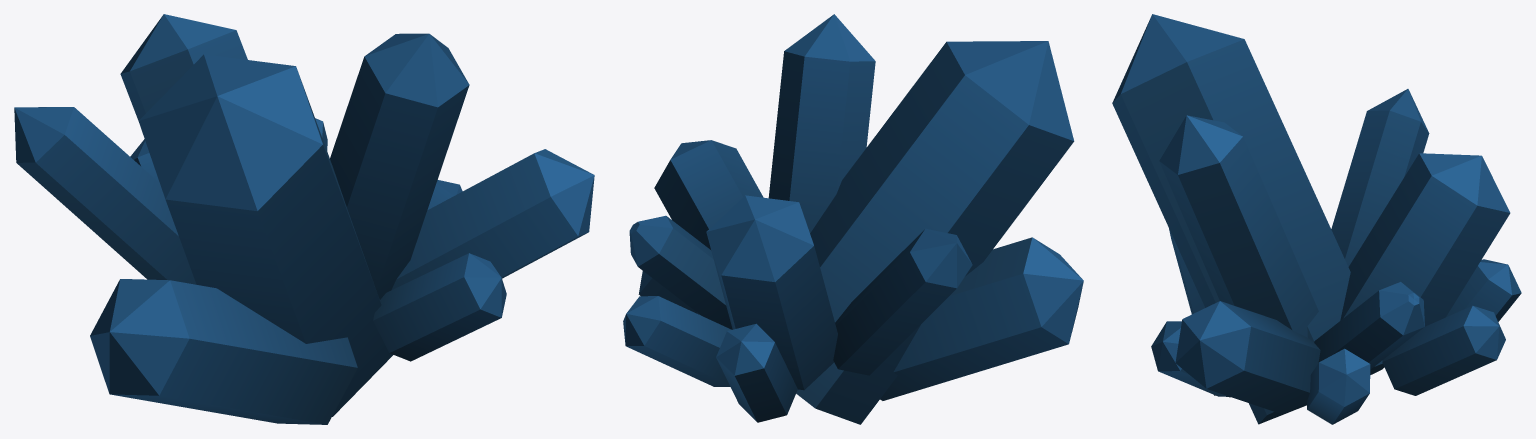
Rendered from CrystalCluster_Medium8.fbx.
3 views of the same model, side by side, from view 1: azimuth 30°, elevation 25°; view 2: azimuth 150°, elevation 25°; view 3: azimuth 270°, elevation 25° (orthographic). The views are drawn at different scales.
Parts seen in each view (by area): view 1: CrystalCluster_Medium8; view 2: CrystalCluster_Medium8; view 3: CrystalCluster_Medium8.
Boxes of the visible parts, box(x1,y1,x2,y2) form: CrystalCluster_Medium8: box(14, 14, 594, 424); CrystalCluster_Medium8: box(623, 14, 1083, 424); CrystalCluster_Medium8: box(1112, 14, 1521, 424).
Bounding box in the file's own units: 202 × 163 × 179.
